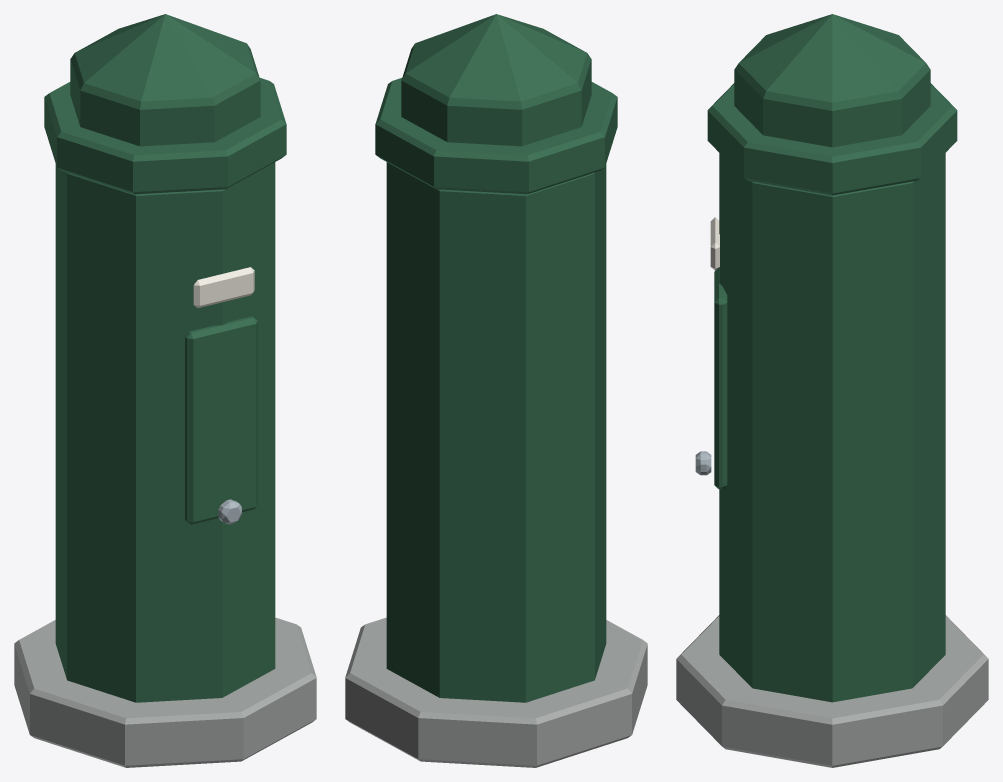
The model's file is b05_coax_cable_junction_pedestal.glb.
The picture shows the model from 3 angles, left to right: view 1: azimuth 30°, elevation 25°; view 2: azimuth 150°, elevation 25°; view 3: azimuth 270°, elevation 25°; orthographic projection.
Visible parts, largest first — view 1: b05_coax_cable_junction_pedestal; view 2: b05_coax_cable_junction_pedestal; view 3: b05_coax_cable_junction_pedestal.
Boxes of the visible parts, x1,y1,x2,y2 form: b05_coax_cable_junction_pedestal: (14,14,316,767); b05_coax_cable_junction_pedestal: (345,14,647,767); b05_coax_cable_junction_pedestal: (676,14,988,767).
Bounding box in the file's own units: 0.4 × 0.975 × 0.4.
